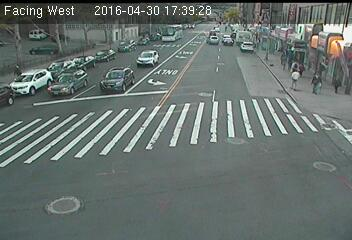neg: (261, 54, 270, 67), (115, 42, 124, 54), (56, 55, 65, 67), (308, 54, 316, 66), (49, 72, 57, 83), (252, 37, 260, 48), (239, 41, 247, 51), (139, 34, 146, 43), (222, 38, 229, 47), (216, 17, 222, 25), (223, 26, 227, 32)
pos: (310, 72, 327, 95), (287, 69, 304, 92), (331, 75, 345, 94), (280, 50, 294, 68), (10, 63, 21, 78), (292, 59, 303, 73)
